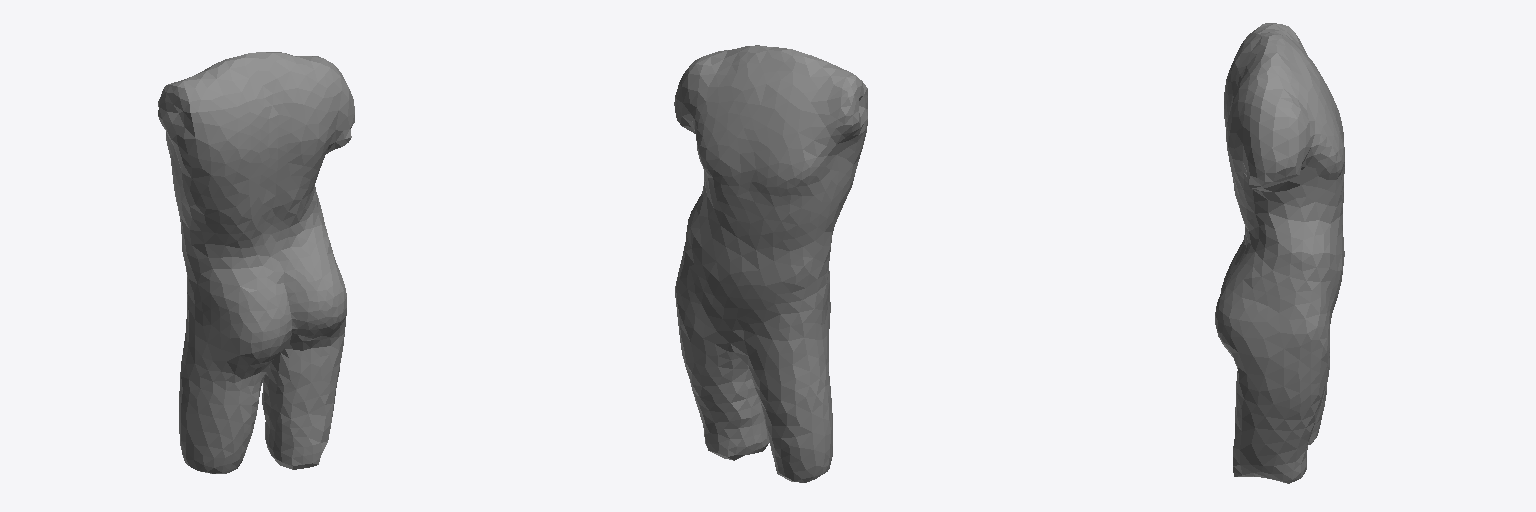
The model's file is greek_man_torso.obj.
3 views of the same model, side by side, from view 1: azimuth 30°, elevation 25°; view 2: azimuth 150°, elevation 25°; view 3: azimuth 270°, elevation 25° (orthographic).
Parts seen in each view (by area): view 1: greek_man_torso; view 2: greek_man_torso; view 3: greek_man_torso.
Boxes of the visible parts, <box> form: greek_man_torso: <box>158,52,354,473</box>; greek_man_torso: <box>674,45,867,482</box>; greek_man_torso: <box>1215,23,1344,483</box>.
Bounding box in the file's own units: 5.78 × 12.34 × 3.52.